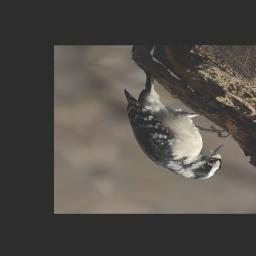Woodpecker: (108, 63, 247, 184)
